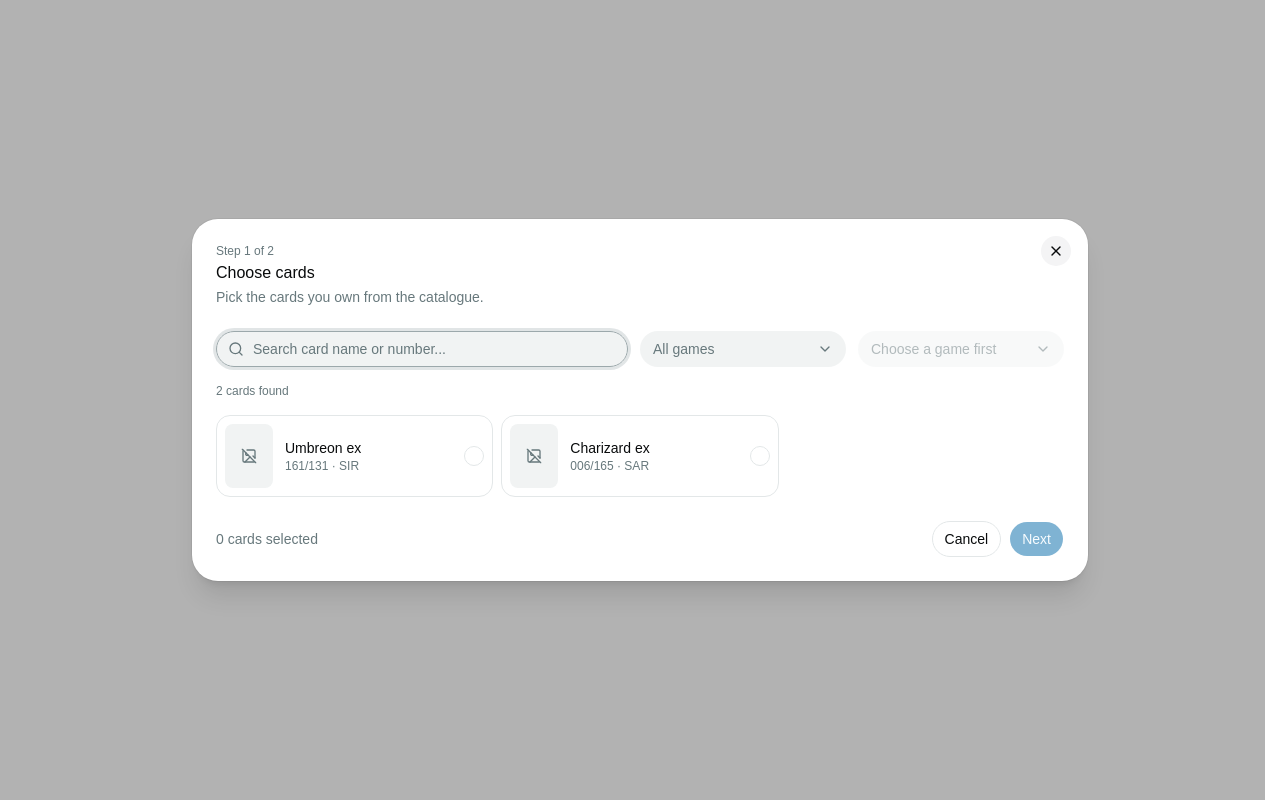
Test: AddCardsDialog › waits for a printing to be chosen when a card has several
Click the button "Charizard ex 006/165 · SAR". click: point(640, 456)
box: [501, 415, 779, 497]
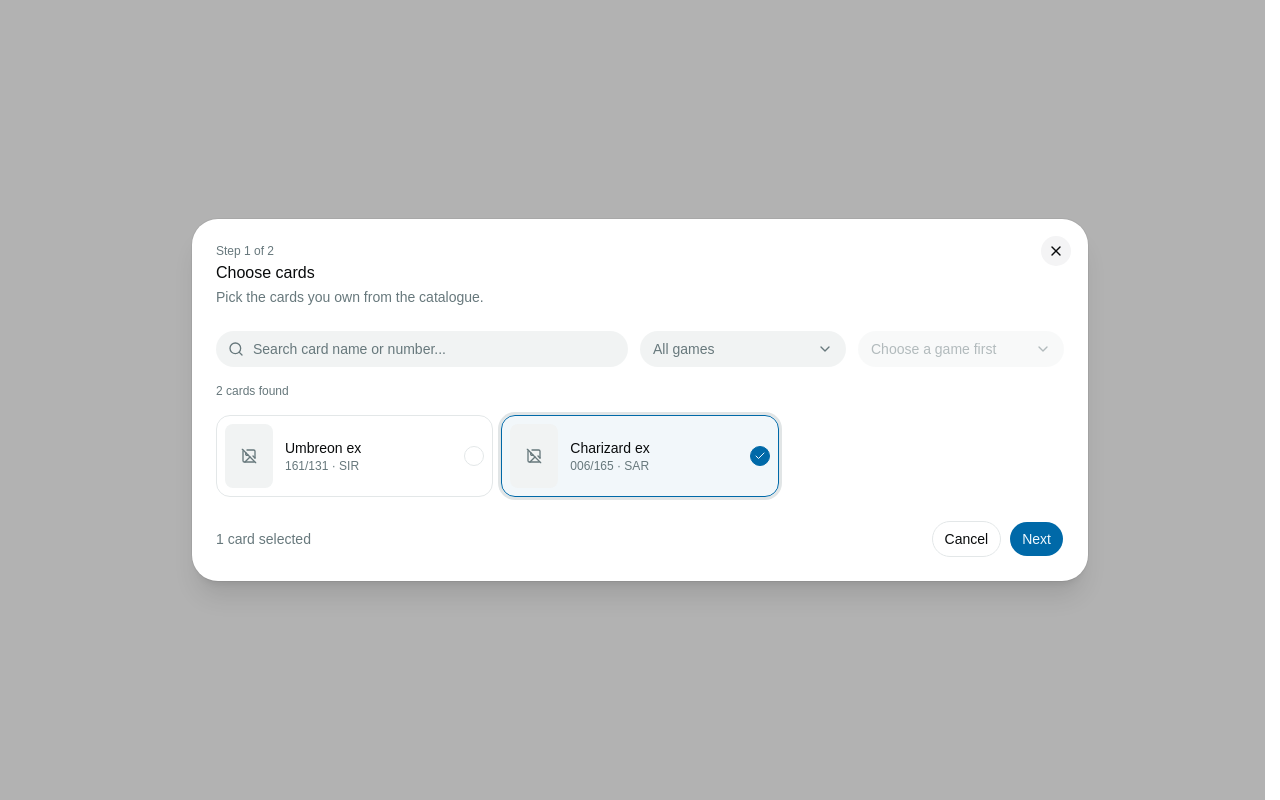
Click the button "Next". click: point(1037, 539)
box: [1009, 521, 1064, 557]
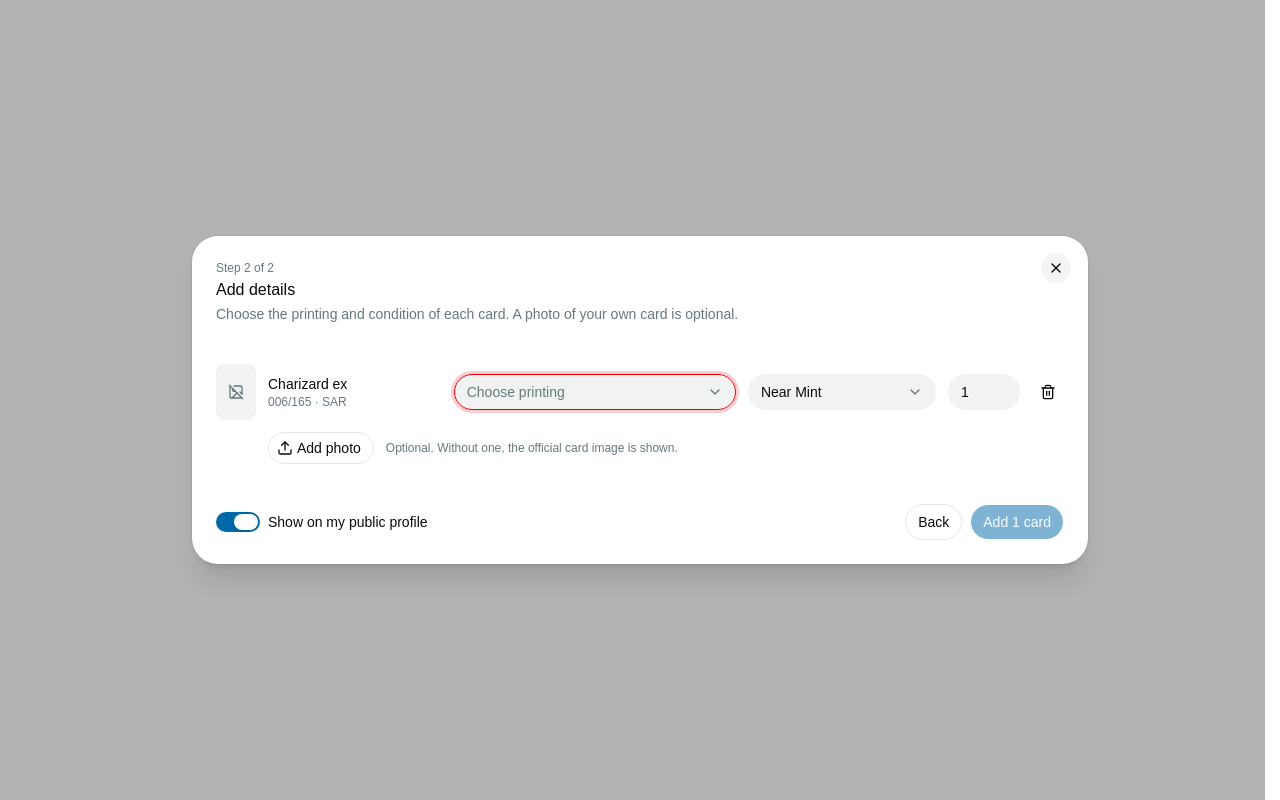
expect the dropdown named "Printing of Charizard ex" shows "Choose printing": met
expect the button "Add 1 card" is disabled: met, box [970, 504, 1064, 540]
Click the dropdown named "Printing of Charizard ex". click: point(516, 392)
box: [454, 374, 736, 410]
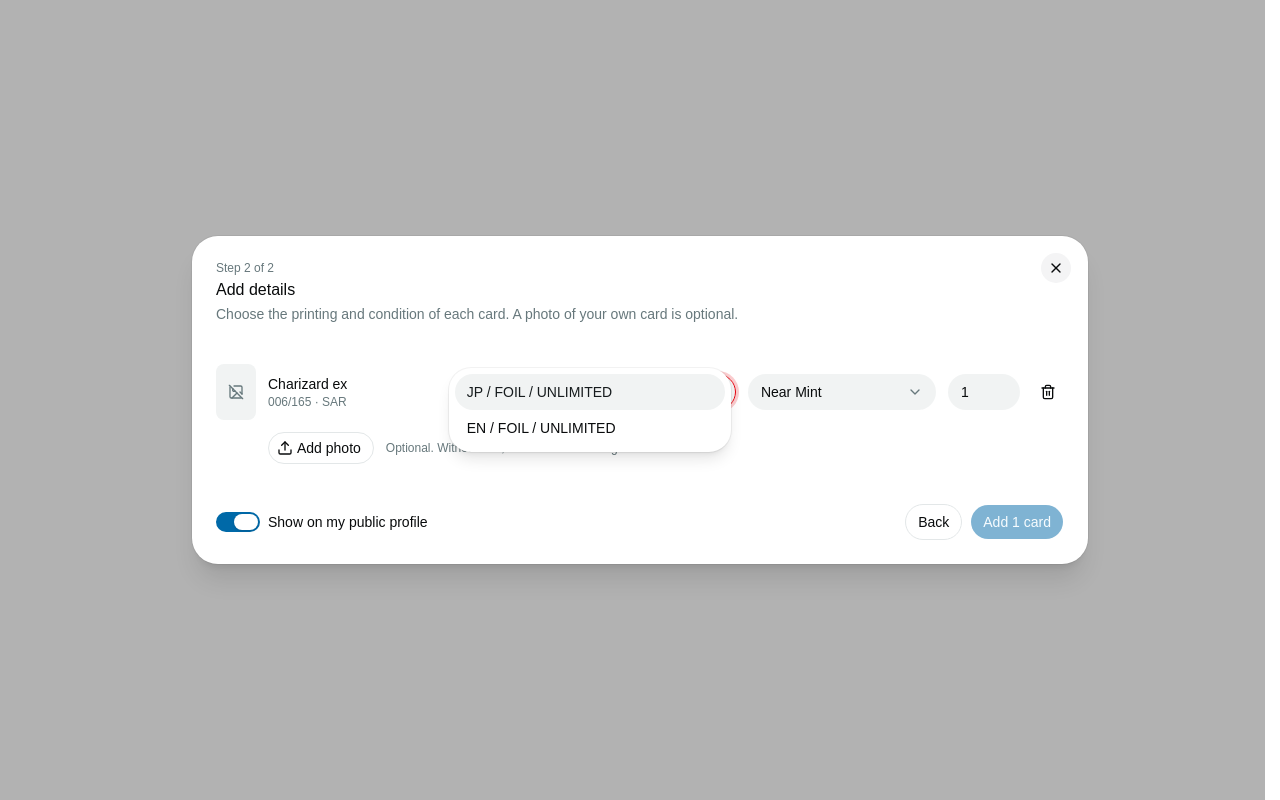
Click the option "EN / FOIL / UNLIMITED". click: point(541, 428)
box: [467, 420, 616, 436]
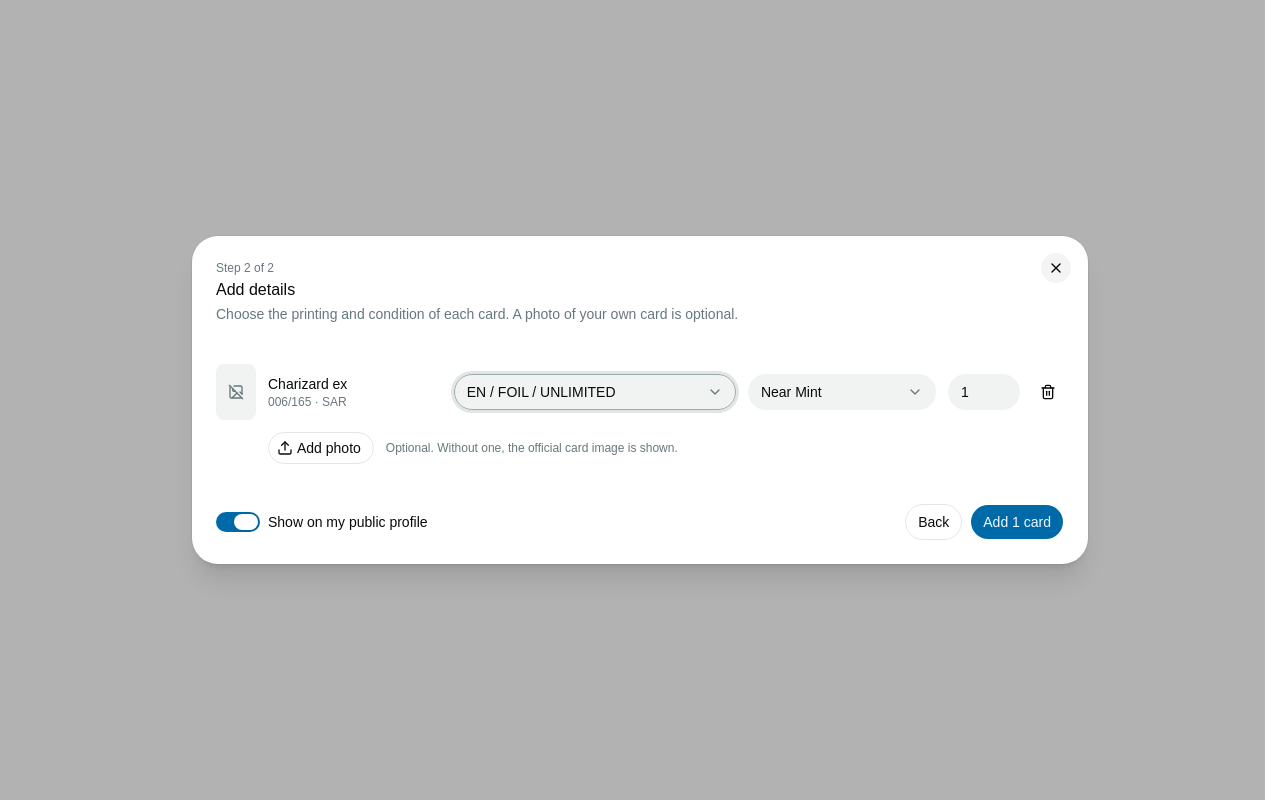
expect the button "Add 1 card" is enabled: met, box [970, 504, 1064, 540]
